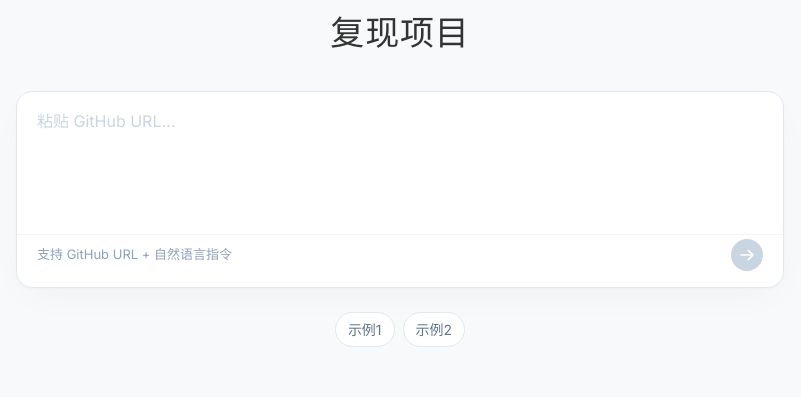
Test: WelcomePage › shows error when github url is required but missing
Type "just some text" into the text box.
click(400, 160); type("just some text")  # box [37, 108, 763, 212]
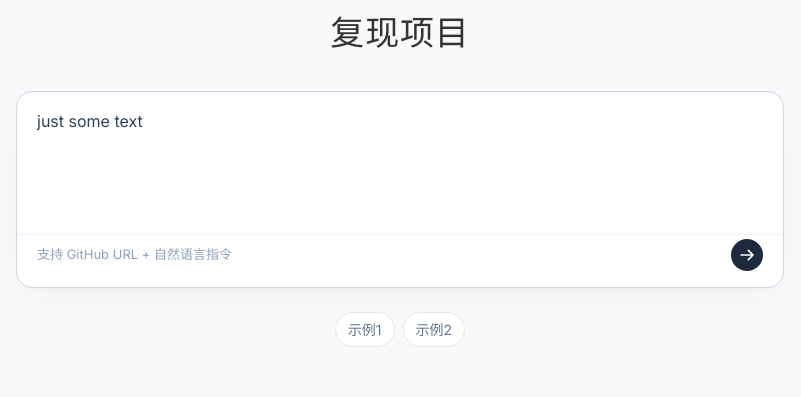
Click the 1st button.
click(747, 255)  # box [731, 239, 763, 271]
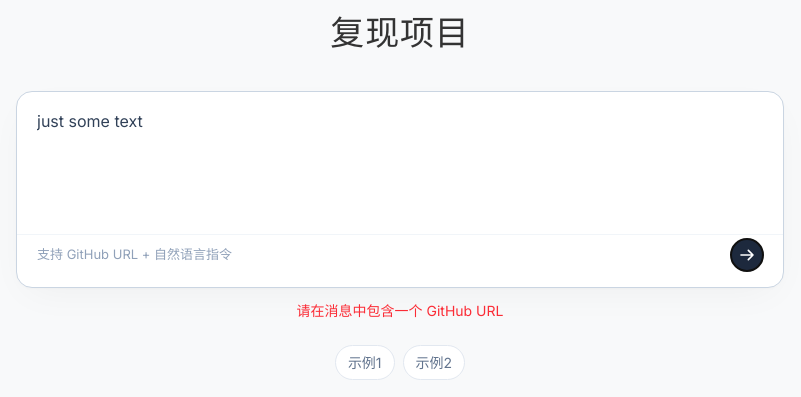
Expected: the text "请在消息中包含一个 GitHub URL" is shown, [296, 302, 503, 319]
